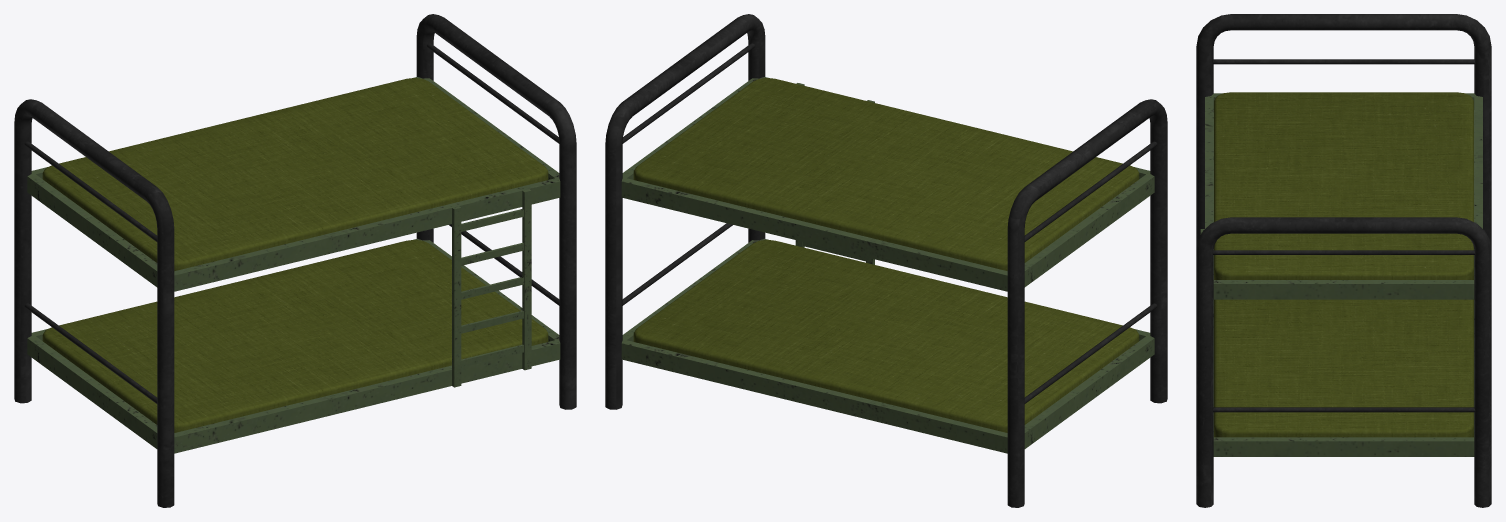
3 views of the same model, side by side, from view 1: azimuth 30°, elevation 25°; view 2: azimuth 150°, elevation 25°; view 3: azimuth 270°, elevation 25° (orthographic). The views are drawn at different scales.
Parts seen in each view (by area): view 1: bed, mattress_2, mattress_1; view 2: bed, mattress_1, mattress_2; view 3: mattress_2, bed, mattress_1.
Boxes of the visible parts, bbox=[...] form: bed: bbox=[14, 14, 576, 507]; mattress_2: bbox=[42, 78, 548, 270]; mattress_1: bbox=[42, 239, 548, 432]; bed: bbox=[605, 14, 1167, 507]; mattress_1: bbox=[633, 239, 1139, 432]; mattress_2: bbox=[633, 78, 1139, 270]; mattress_2: bbox=[1214, 92, 1473, 279]; bed: bbox=[1196, 14, 1491, 507]; mattress_1: bbox=[1214, 299, 1473, 437].
Size of the model in its own units: 2.7 by 1.9 by 1.7.
Materials: 1 (1 with a texture image).
